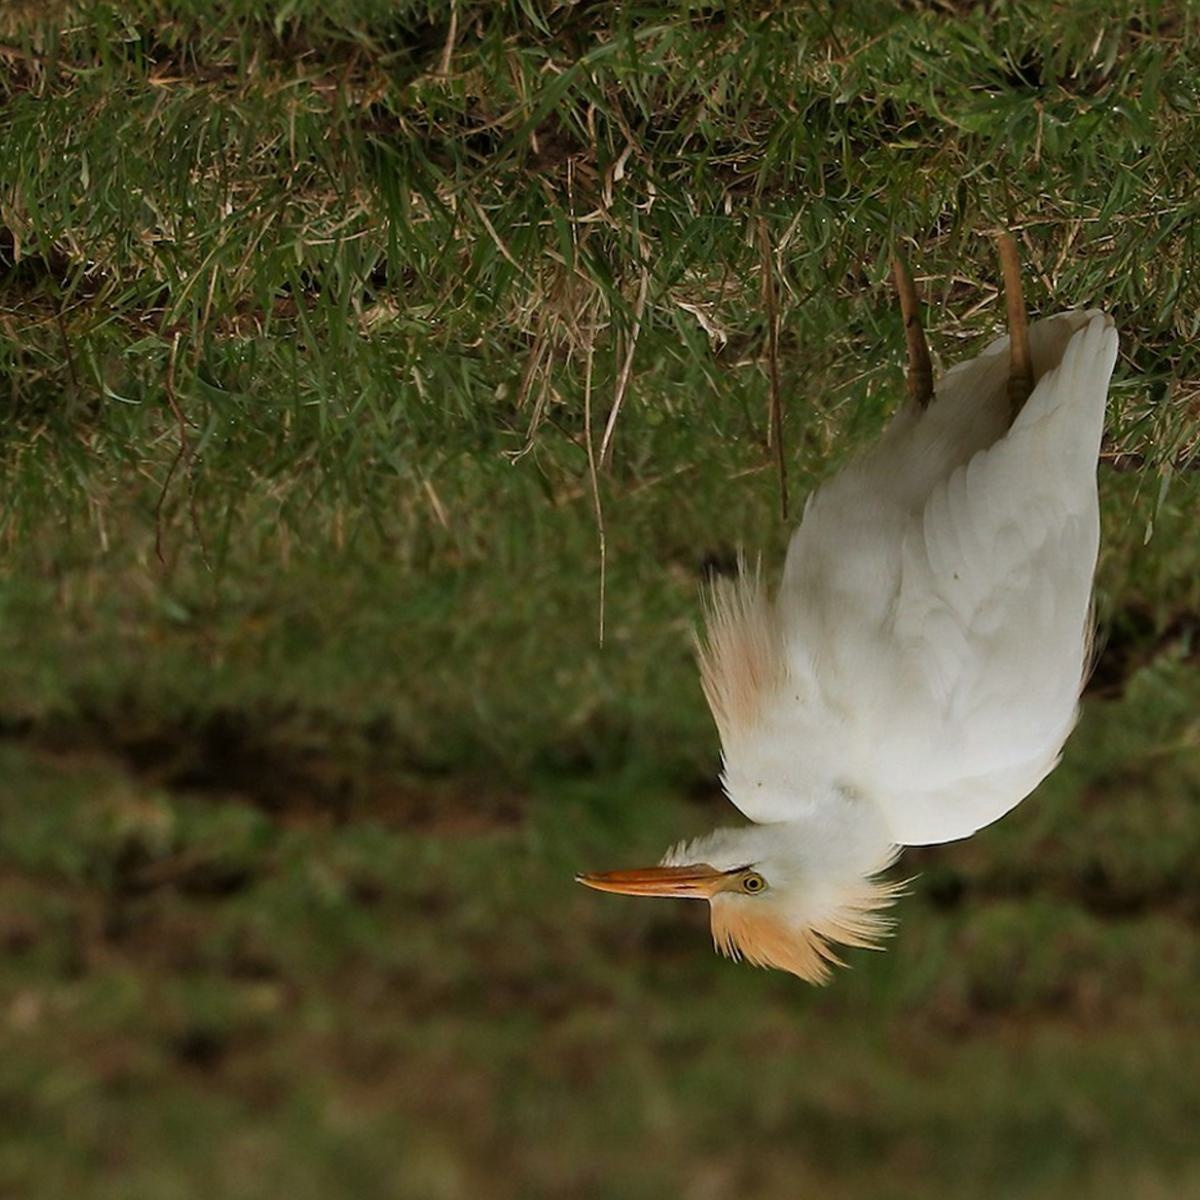egret: (605, 282, 1173, 985)
